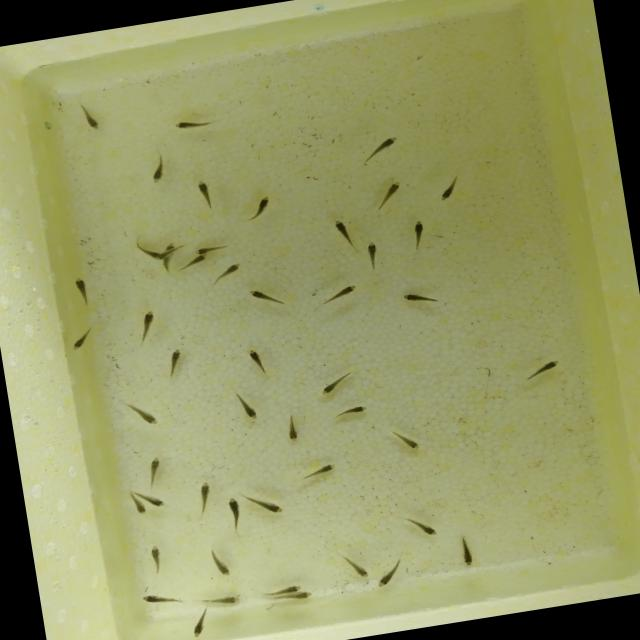fingerling: (308, 374, 350, 404), (451, 538, 484, 574), (130, 306, 166, 336), (207, 589, 246, 614), (132, 400, 162, 431), (140, 452, 170, 482), (255, 496, 292, 520), (359, 234, 386, 265), (373, 131, 403, 158), (191, 478, 217, 509), (394, 287, 430, 309), (407, 216, 432, 247), (136, 589, 172, 610), (145, 543, 169, 574), (70, 272, 96, 300), (396, 429, 423, 455), (278, 588, 316, 606), (222, 493, 244, 524), (330, 216, 352, 247), (434, 182, 459, 208), (534, 358, 566, 378), (243, 285, 275, 305), (180, 252, 215, 270), (163, 344, 188, 369), (414, 514, 438, 540), (381, 177, 404, 204), (169, 116, 201, 135), (140, 492, 170, 512), (79, 106, 102, 132), (220, 260, 247, 282), (194, 176, 216, 203), (127, 496, 151, 520), (372, 570, 398, 592), (349, 560, 374, 582), (334, 282, 364, 300), (337, 403, 371, 418), (247, 342, 264, 372), (250, 192, 272, 215), (212, 556, 232, 580), (306, 463, 338, 478), (68, 333, 92, 353), (189, 615, 208, 640), (150, 162, 168, 188), (272, 583, 304, 597), (151, 247, 182, 261), (240, 401, 258, 424), (284, 424, 302, 446), (193, 243, 222, 255)
